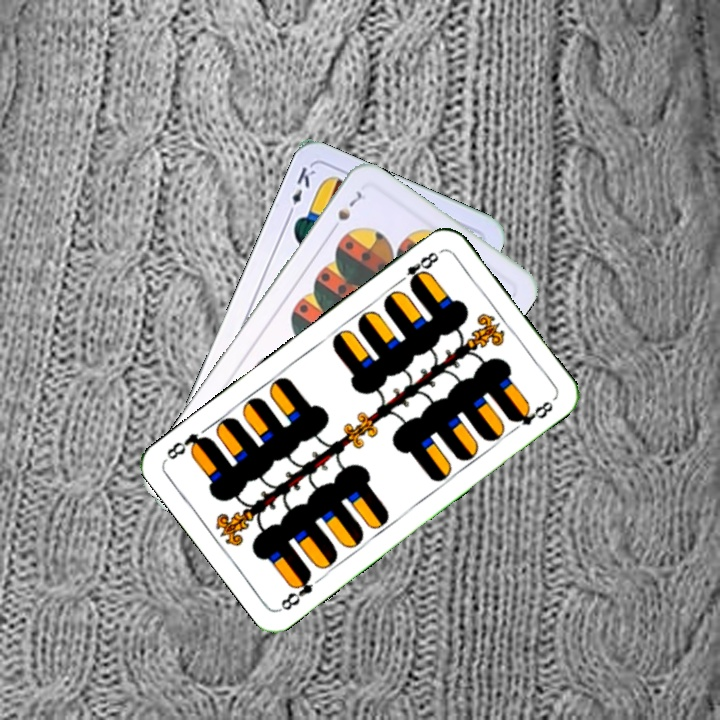E8: (392, 247, 442, 290), (276, 567, 316, 613)
EK: (283, 163, 318, 220)
S7: (326, 187, 365, 236)
